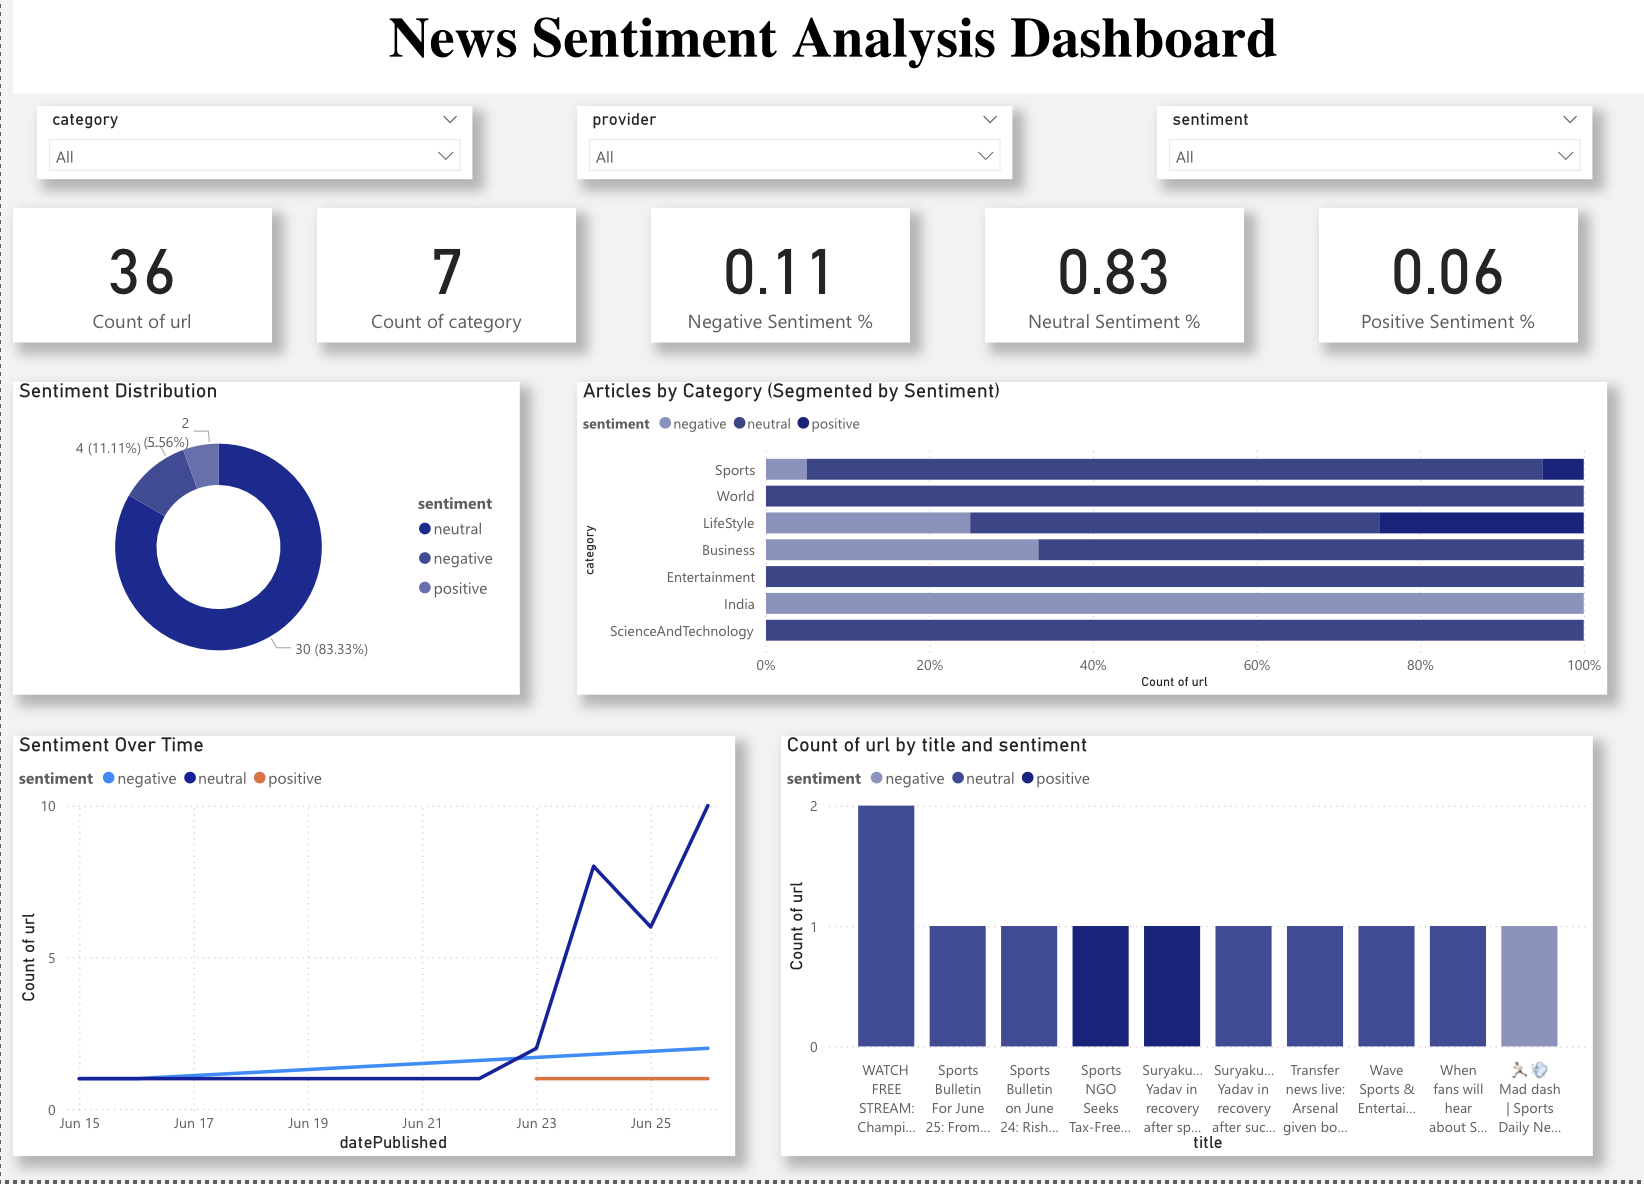

Layout of this report page (visuals, bound fields, positions):
{"tool":"powerbi","page":{"name":"Page 2","canvas":[1400,1000],"ordinal":0},"visuals":[{"type":"textbox","box":[9.8,0,1390.2,79.7],"z":0},{"type":"card","fields":{"Values":["tbl_sentiment_analysis.url"]},"box":[9.8,175.6,219.5,113.8],"z":1},{"type":"card","fields":{"Values":["tbl_sentiment_analysis.category"]},"box":[268.3,175.6,219.5,113.8],"z":2},{"type":"card","fields":{"Values":["tbl_sentiment_analysis.Negative Sentiment %"]},"box":[551.2,175.6,219.5,113.8],"z":3},{"type":"card","fields":{"Values":["tbl_sentiment_analysis.Neutral Sentiment %"]},"box":[834.1,175.6,219.5,113.8],"z":4},{"type":"card","fields":{"Values":["tbl_sentiment_analysis.Positive Sentiment %"]},"box":[1117.1,175.6,219.5,113.8],"z":5},{"type":"slicer","fields":{"Values":["tbl_sentiment_analysis.category"]},"box":[30.9,89.4,369.1,61.8],"z":6},{"type":"slicer","fields":{"Values":["tbl_sentiment_analysis.provider"]},"box":[487.8,89.4,369.1,61.8],"z":7},{"type":"slicer","fields":{"Values":["tbl_sentiment_analysis.sentiment"]},"box":[980.5,89.4,369.1,61.8],"z":8},{"type":"donutChart","title":"Sentiment Distribution","fields":{"Category":["tbl_sentiment_analysis.sentiment"],"Y":["tbl_sentiment_analysis.url"]},"box":[9.8,323.6,429.3,265],"z":9},{"type":"hundredPercentStackedBarChart","title":"Articles by Category (Segmented by Sentiment)","fields":{"Category":["tbl_sentiment_analysis.category"],"Series":["tbl_sentiment_analysis.sentiment"],"Y":["tbl_sentiment_analysis.url"]},"box":[487.8,323.6,873.2,265],"z":10},{"type":"lineChart","title":"Sentiment Over Time","fields":{"Category":["tbl_sentiment_analysis.datePublished"],"Series":["tbl_sentiment_analysis.sentiment"],"Y":["tbl_sentiment_analysis.url"]},"box":[10.2,623.7,611.9,355.9],"z":11},{"type":"columnChart","fields":{"Series":["tbl_sentiment_analysis.sentiment"],"Category":["tbl_sentiment_analysis.title"],"Y":["tbl_sentiment_analysis.url"]},"box":[661,623.7,688.1,355.9],"z":12}]}

Visuals, with their boxes in screenshot pixels (x1, y1, x2, y2), scaled from the page's 1400x1000 canvas onto the 1644x1184 screenshot:
textbox: 12:0:1643:94
card - tbl_sentiment_analysis.url: 12:208:269:343
card - tbl_sentiment_analysis.category: 315:208:573:343
card - tbl_sentiment_analysis.Negative Sentiment %: 647:208:905:343
card - tbl_sentiment_analysis.Neutral Sentiment %: 979:208:1237:343
card - tbl_sentiment_analysis.Positive Sentiment %: 1312:208:1570:343
slicer - tbl_sentiment_analysis.category: 36:106:470:179
slicer - tbl_sentiment_analysis.provider: 573:106:1006:179
slicer - tbl_sentiment_analysis.sentiment: 1151:106:1585:179
"Sentiment Distribution" donutChart: 12:383:516:697
"Articles by Category (Segmented by Sentiment)" hundredPercentStackedBarChart: 573:383:1598:697
"Sentiment Over Time" lineChart: 12:738:731:1160
columnChart - tbl_sentiment_analysis.sentiment x tbl_sentiment_analysis.title: 776:738:1584:1160
